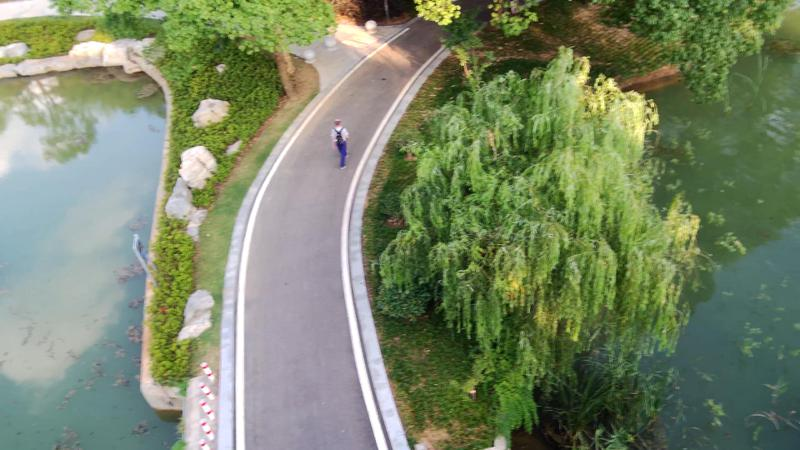passerby: (329, 117, 350, 170)
